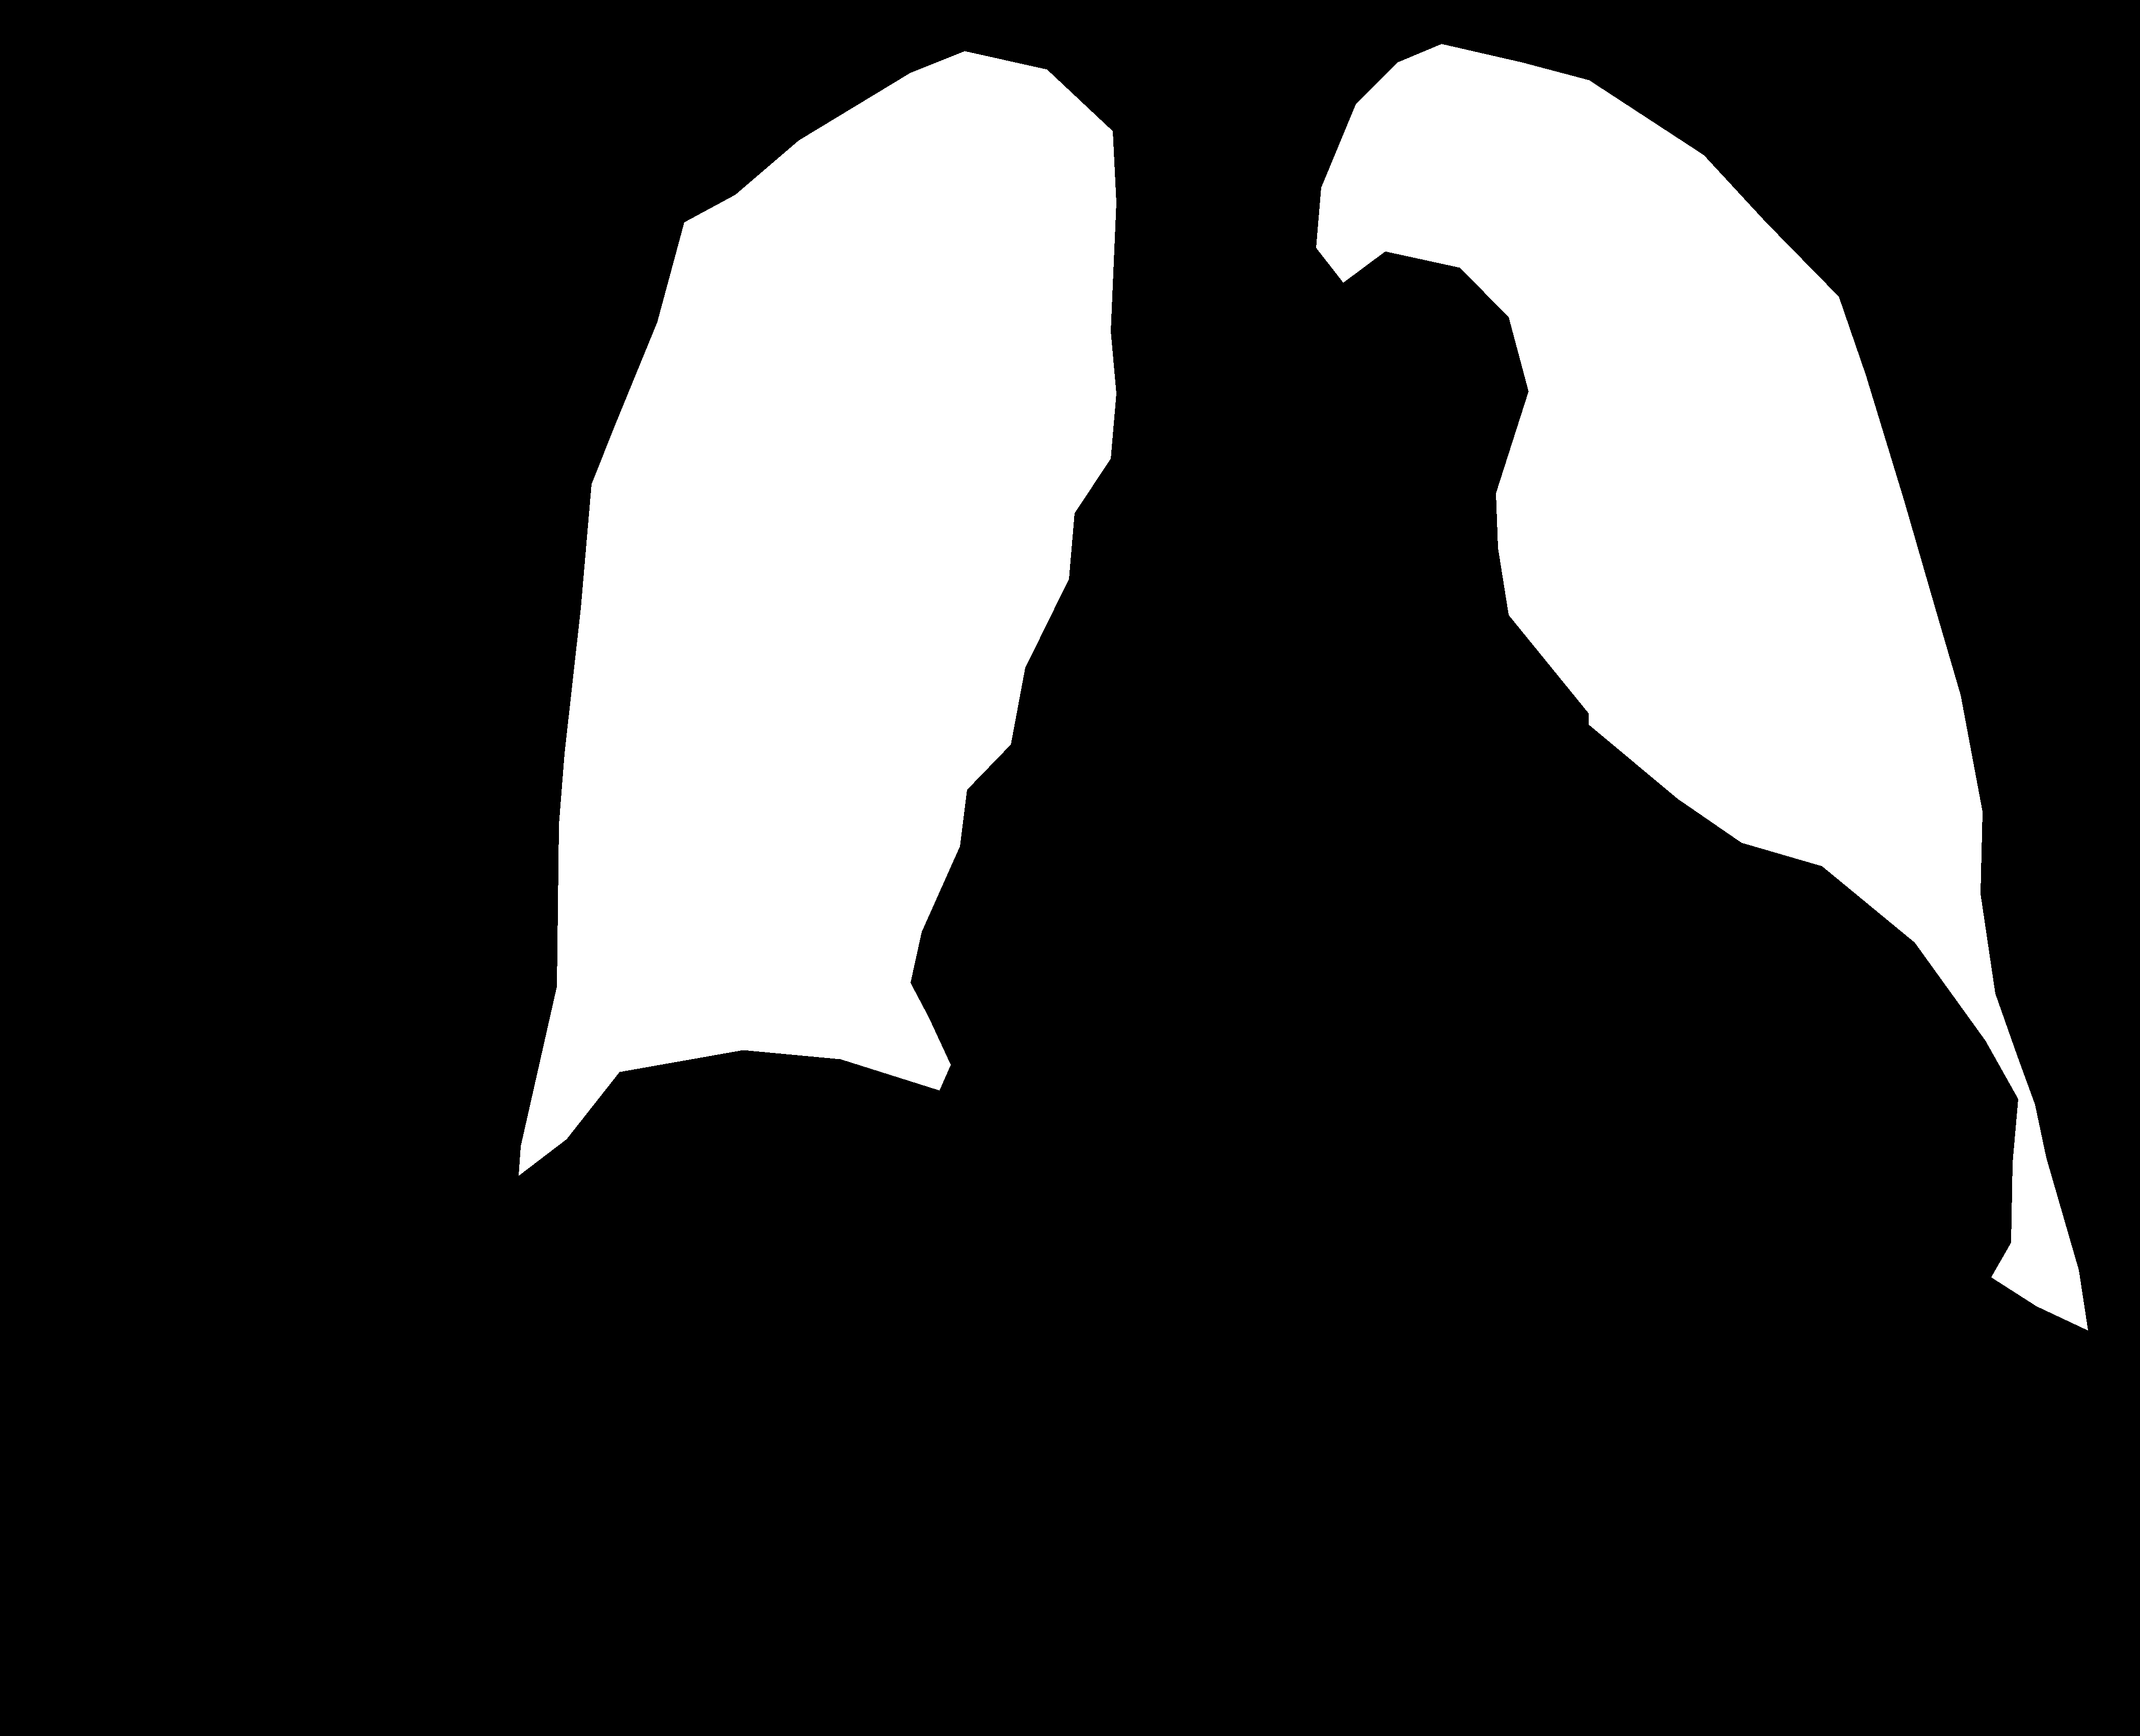heart: (911, 484, 2014, 1293)
left_lung: (519, 51, 1116, 1174)
right_lung: (1316, 44, 2087, 1330)
